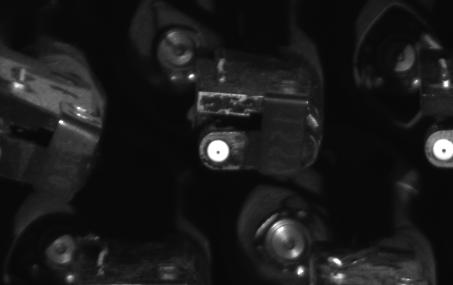fiber: (202, 136, 235, 166), (429, 135, 453, 167)
